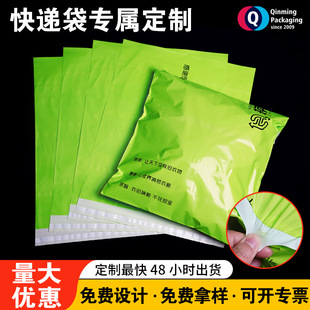Parcel: (32, 40, 288, 247)
